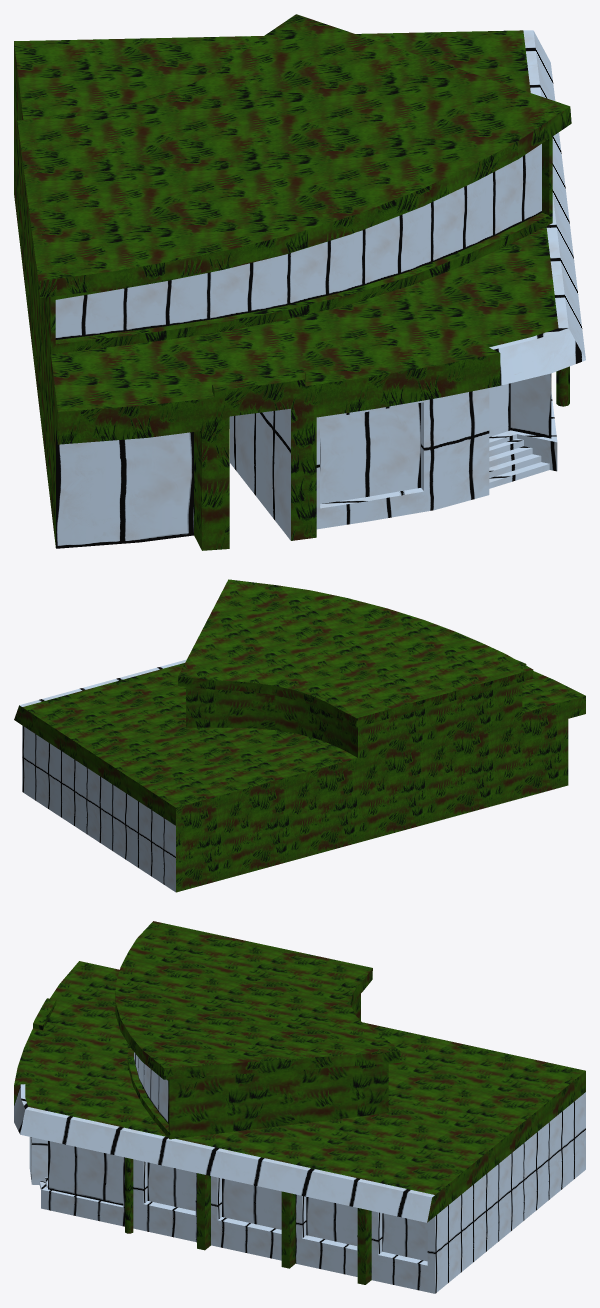
The model's file is budynek.fbx.
3 renders of one model, top to bottom at view 1: azimuth 30°, elevation 25°; view 2: azimuth 150°, elevation 25°; view 3: azimuth 270°, elevation 25°, orthographic. The views are drawn at different scales.
Visible parts, largest first — view 1: budynek; view 2: budynek; view 3: budynek.
Boxes of the visible parts, x1,y1,x2,y2 form: budynek: (14,14,585,550); budynek: (14,579,585,892); budynek: (14,921,585,1293).
Bounding box in the file's own units: 2160 × 730 × 2169.
